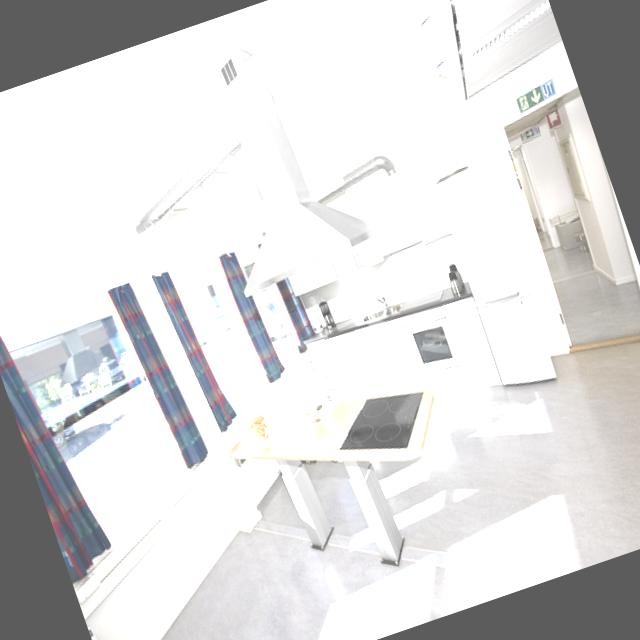Vehicle: (256, 295, 294, 345), (92, 356, 128, 391), (56, 378, 90, 407), (77, 369, 101, 393)
